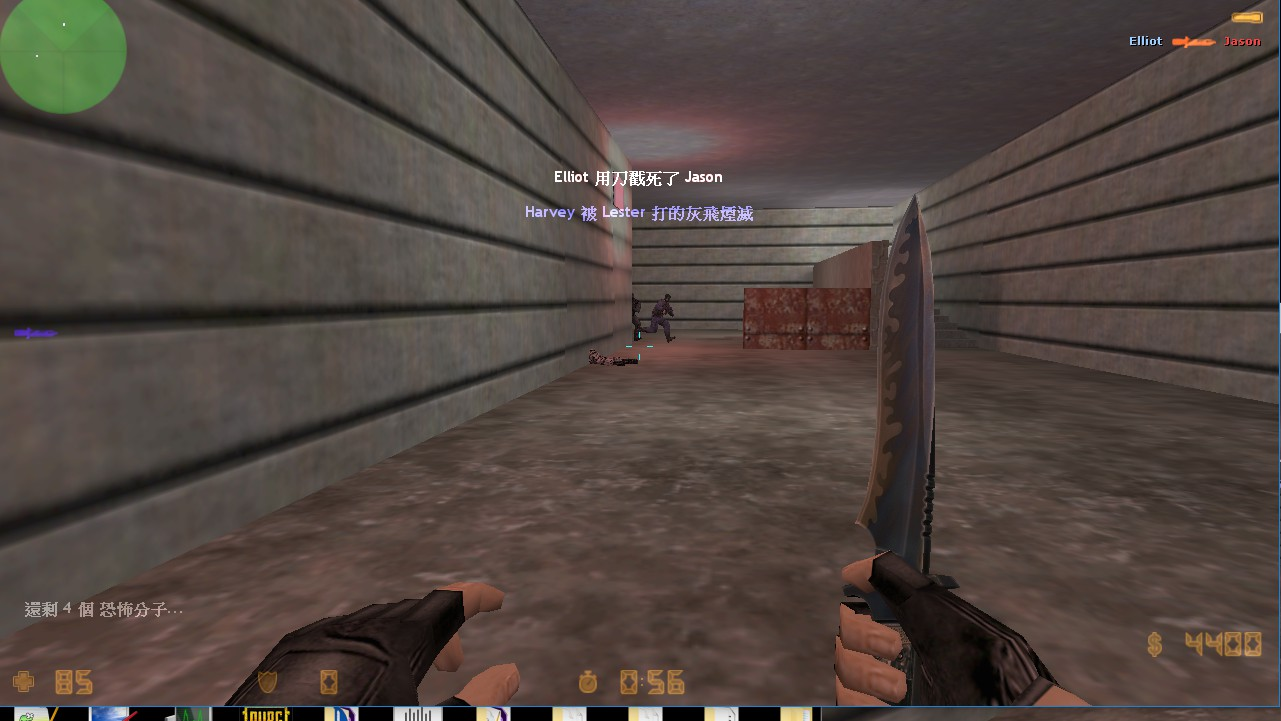person: (648, 292, 677, 344), (632, 292, 642, 342)
